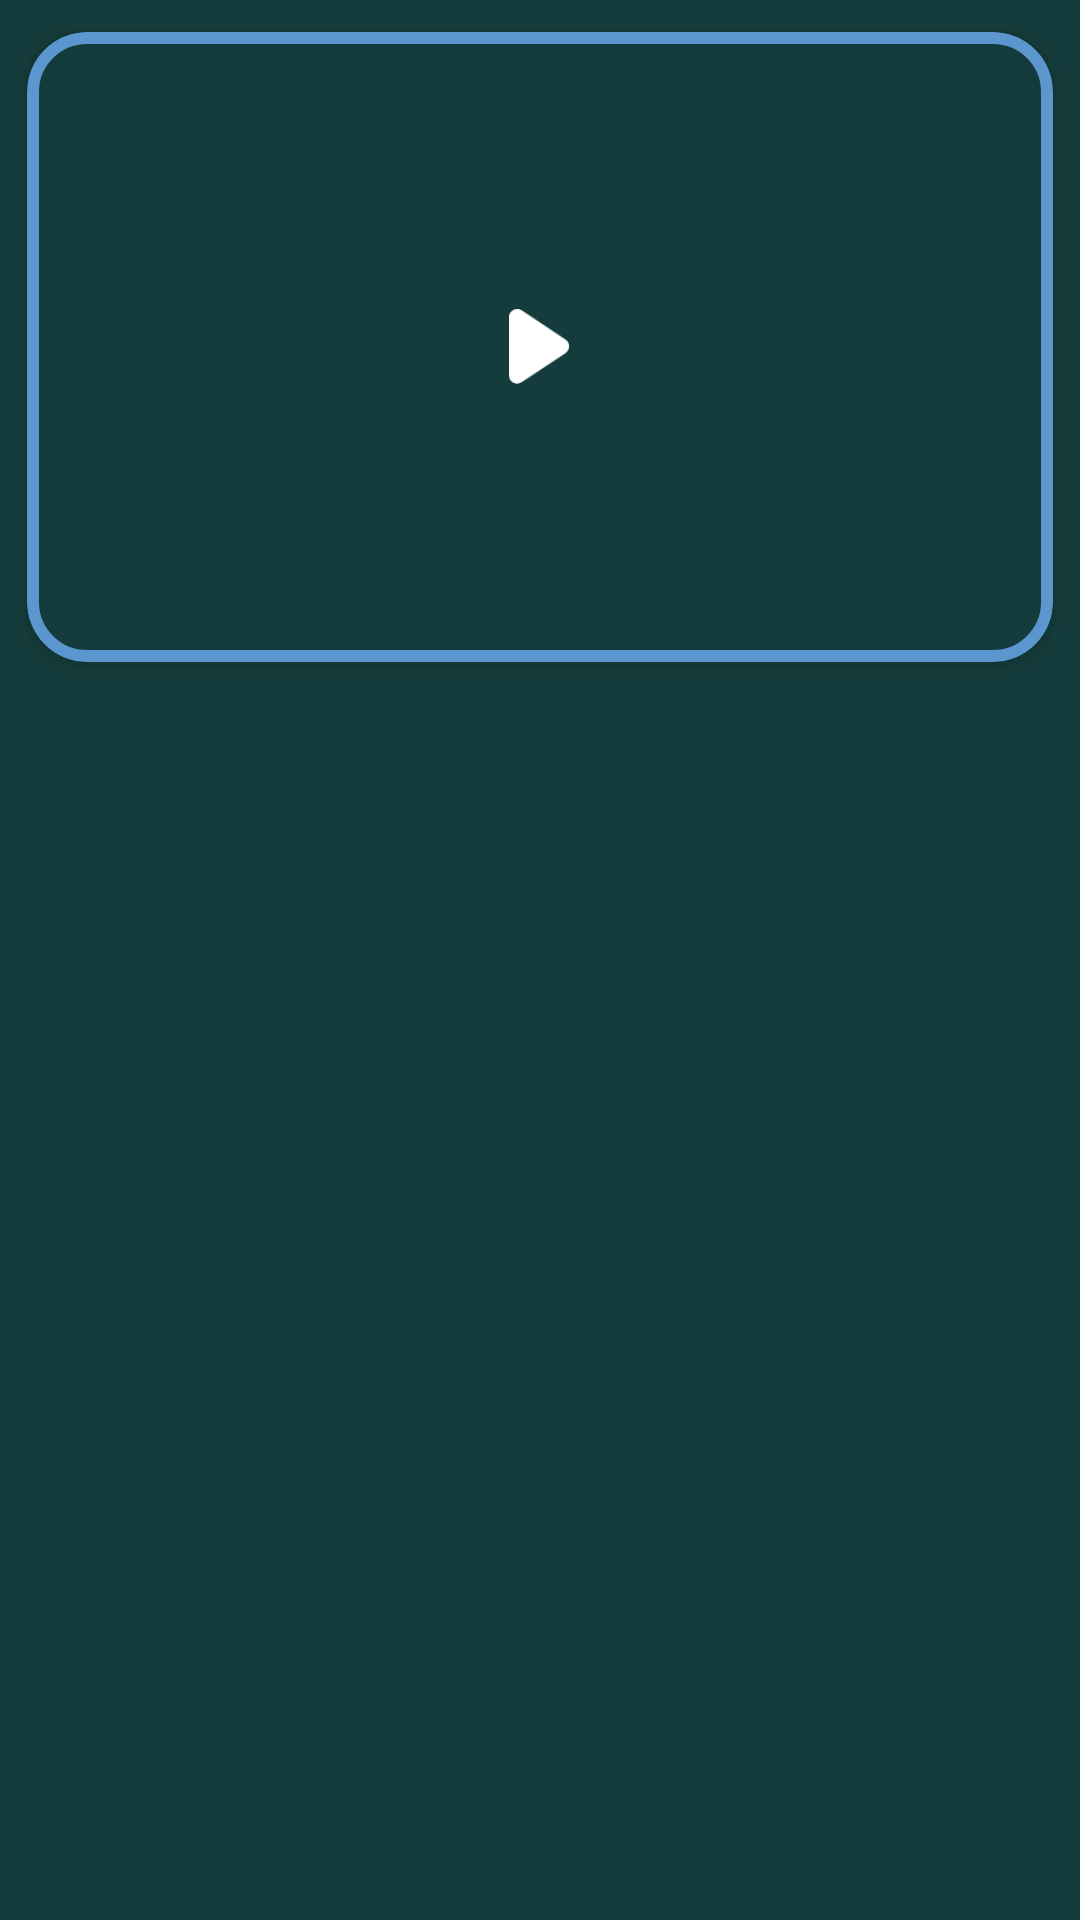

Screen size 1080 x 1920. Icon name, then its box in pixels as (x1, y1, x2, y2):
playicon: (509, 309, 570, 384)
